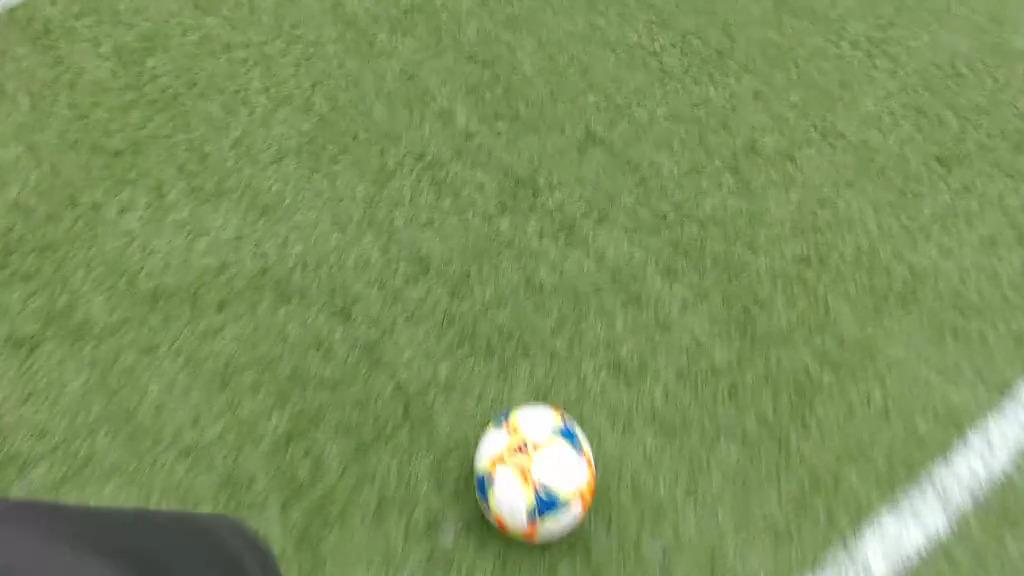ball: (474, 403, 595, 543)
